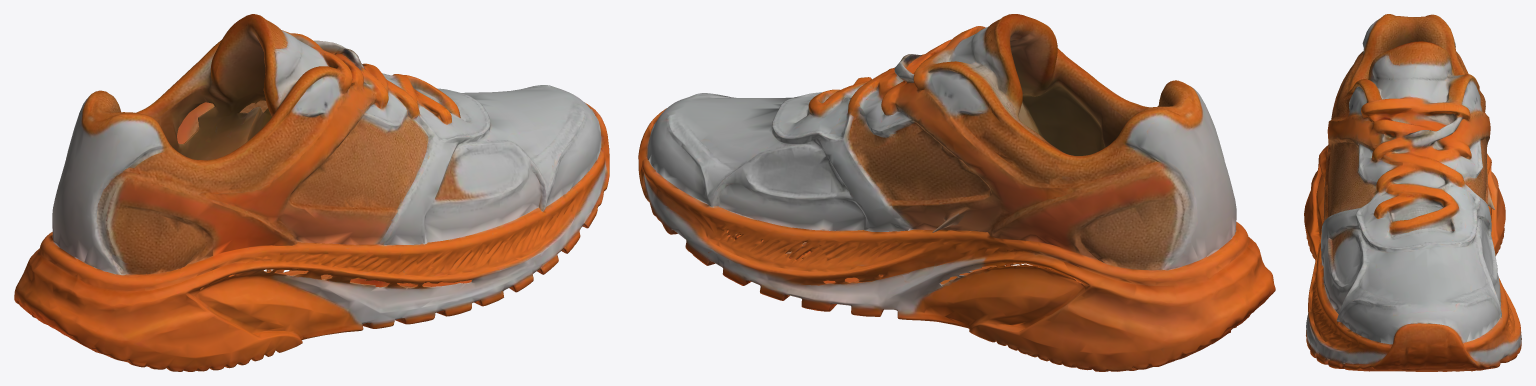
The model's file is nube-v2.glb.
3 views of the same model, side by side, from view 1: azimuth 30°, elevation 25°; view 2: azimuth 150°, elevation 25°; view 3: azimuth 270°, elevation 25° (orthographic). The views are drawn at different scales.
Parts seen in each view (by area): view 1: geometry_0; view 2: geometry_0; view 3: geometry_0.
Part boxes in pixels (<box>): geometry_0: <box>14,14,609,371</box>; geometry_0: <box>638,14,1275,371</box>; geometry_0: <box>1304,14,1521,371</box>.
Bounding box in the file's own units: 1 × 0.4717 × 0.3898.
1 material, 1 textured.
